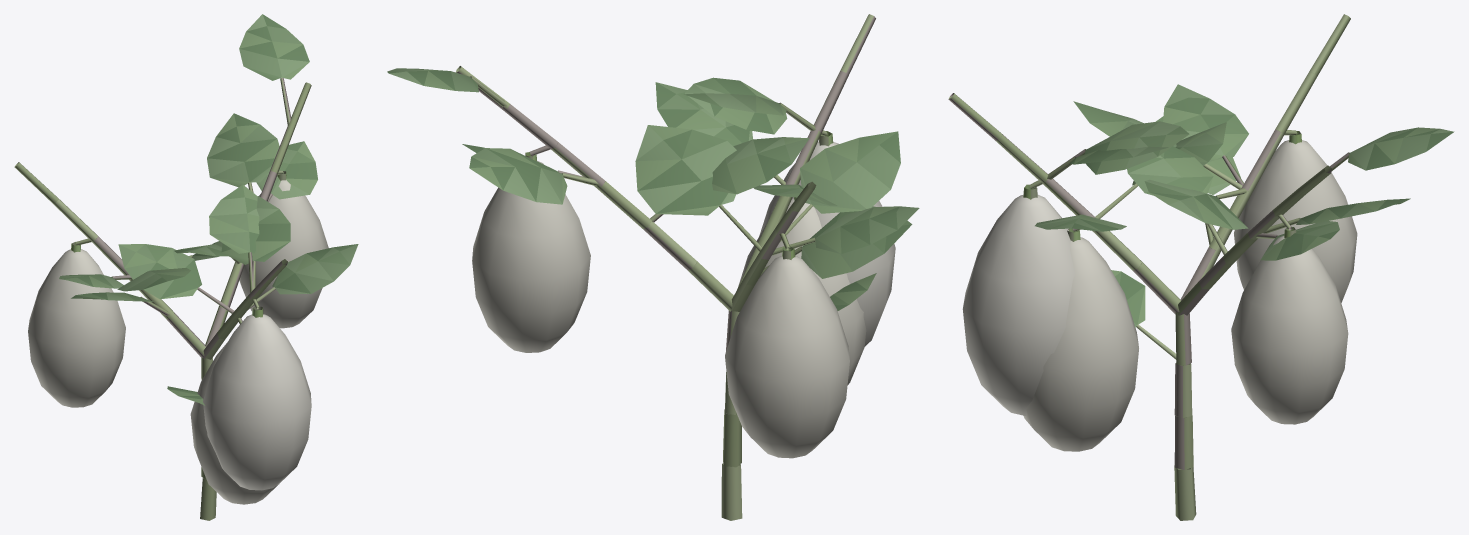
The model's file is aubergine_blanche_mur.glb.
The picture shows the model from 3 angles, left to right: view 1: azimuth 30°, elevation 25°; view 2: azimuth 150°, elevation 25°; view 3: azimuth 270°, elevation 25°; orthographic projection. The views are drawn at different scales.
Parts seen in each view (by area): view 1: Aubergine_Fruits, Aubergine_Feuilles, Aubergine_Tiges; view 2: Aubergine_Fruits, Aubergine_Feuilles, Aubergine_Tiges; view 3: Aubergine_Fruits, Aubergine_Feuilles, Aubergine_Tiges.
Boxes of the visible parts, box(x1,y1,x2,y2) form: Aubergine_Fruits: box(28, 180, 328, 504); Aubergine_Feuilles: box(59, 14, 358, 405); Aubergine_Tiges: box(14, 77, 311, 520); Aubergine_Fruits: box(472, 141, 895, 458); Aubergine_Feuilles: box(387, 68, 919, 310); Aubergine_Tiges: box(456, 14, 875, 520); Aubergine_Fruits: box(962, 140, 1357, 451); Aubergine_Feuilles: box(1035, 84, 1454, 327); Aubergine_Tiges: box(948, 14, 1350, 520).
Size of the model in its own units: 0.6074 by 0.6938 by 0.6567.
